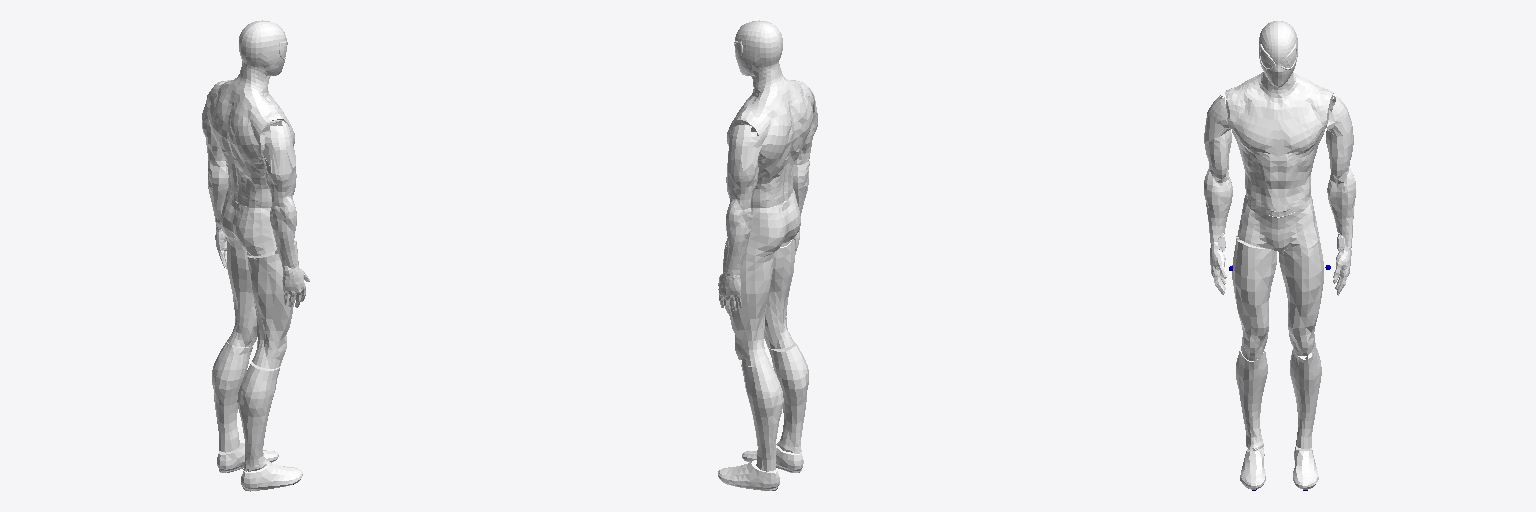
--- Facts derived from the render (not from the file) ---
The picture shows the robot from 3 angles, left to right: view 1: azimuth 30°, elevation 25°; view 2: azimuth 150°, elevation 25°; view 3: azimuth 270°, elevation 25°; orthographic projection.
Robot: spiderman — 41 links, 40 joints (34 revolute, 6 fixed); root link base_link; default pose: every joint at zero.
Visible links, largest first — view 1: Thorax, RThigh, RShank, LShank, RHumerus, Pelvis, LThigh, Skull, RForearm, RFoot, LForearm, RHand (+2 smaller); view 2: Thorax, LThigh, LShank, RShank, LHumerus, Pelvis, RThigh, Skull, LForearm, LFoot, LHand, RFoot; view 3: Thorax, RThigh, LThigh, Pelvis, LShank, RShank, Skull, LHumerus, RHumerus, LForearm, RForearm.
Boxes of the visible links, <box> form: Thorax: <box>208,63,294,207</box>; RThigh: <box>248,241,298,368</box>; RShank: <box>237,363,279,471</box>; LShank: <box>212,342,253,452</box>; RHumerus: <box>261,121,296,208</box>; Pelvis: <box>220,191,294,255</box>; LThigh: <box>227,238,256,347</box>; Skull: <box>239,20,287,76</box>; RForearm: <box>270,205,299,275</box>; RFoot: <box>241,461,291,491</box>; LForearm: <box>208,161,228,234</box>; RHand: <box>282,268,309,307</box>; Thorax: <box>727,64,813,207</box>; LThigh: <box>723,245,774,365</box>; LShank: <box>741,361,783,471</box>; RShank: <box>768,342,808,453</box>; LHumerus: <box>726,125,761,209</box>; Pelvis: <box>725,189,800,256</box>; RThigh: <box>764,237,794,348</box>; Skull: <box>734,20,782,75</box>; LForearm: <box>723,208,752,282</box>; LFoot: <box>729,460,779,490</box>; LHand: <box>718,273,741,313</box>; RFoot: <box>753,445,803,472</box>; Thorax: <box>1225,72,1333,216</box>; RThigh: <box>1232,235,1276,360</box>; LThigh: <box>1279,237,1323,358</box>; Pelvis: <box>1238,194,1318,251</box>; LShank: <box>1290,348,1321,448</box>; RShank: <box>1236,347,1267,450</box>; Skull: <box>1259,21,1297,87</box>; LHumerus: <box>1326,96,1353,182</box>; RHumerus: <box>1204,95,1231,182</box>; LForearm: <box>1327,175,1355,255</box>; RForearm: <box>1204,176,1232,255</box>.
Bounding box of the posed robot: 0.2766 × 0.5542 × 1.84 m (x, y, z).
17 mesh visuals loaded from 17 distinct referenced files (17 binary STL).

URDF robot description (spiderman):
<?xml version="1.0"?>
<!-- meshes from http://tf3dm.com/ -->
<robot name="spiderman">
  <material name="Blue"> <!-- for spheres -->
    <color rgba="0 0 1 0.5"/>
  </material>
  <material name="White"> <!-- for bones -->
    <color rgba="1 1 1 1"/>
  </material>
  <material name="Green"> <!-- for bones -->
    <color rgba="0 1 0.1 0.2"/>
  </material>

  <link name="base_link"/>
  <joint name="base_link_J" type="fixed">
      <parent link="base_link"/>
      <child link="Pelvis"/>
      <origin rpy="0 0 0" xyz="0 0 0"/>
   </joint>

  <link name="virtualPelvis"/> <!-- for Blender Armature export -->
  <joint name="virtualPelvis" type="fixed">
      <parent link="base_link"/>
      <child link="virtualPelvis"/>
      <origin rpy="0 0 0" xyz="0 0 0"/>
  </joint>

   <link name="Pelvis">
      <inertial>
         <origin rpy="0 0 0" xyz="0 0 0"/>
         <mass value="8.4552"/>
         <inertia ixx="0" ixy="0" ixz="0" iyy="0" iyz="0" izz="0"/>
      </inertial>
      <visual>
         <origin xyz="0 0 0" rpy="0 0 0"/>
         <geometry>
            <mesh filename="package://hpp-rbprm-corba/meshes/spiderman/spiderman-pelvis.stl"/>
         </geometry>
         <material name="White"/>
      </visual>
      <collision>
         <origin xyz="0 0 0" rpy="0 0 0"/>
         <geometry>
            <mesh filename="package://hpp-rbprm-corba/meshes/spiderman/spiderman-pelvis.stl"/>
         </geometry>
      </collision>
   </link>

  <!--<joint name="pelvis_rfoot_rom_joint" type="fixed">
      <parent link="Pelvis"/>
      <child link="pelvis_rfoot_rom"/>
      <origin rpy="0 0 0" xyz="0 0 0"/>
   </joint>
  <link name="pelvis_rfoot_rom">
      <visual>
         <origin xyz="0 0 0" rpy="0 0 0"/>
         <geometry>
            <mesh filename="package://hpp-rbprm-corba/meshes/spiderman/rfoot_rom.stl"/>
         </geometry>
         <material name="Green"/>
      </visual>
   </link>-->
   
  <!--<joint name="pelvis_lfoot_rom_joint" type="fixed">
      <parent link="Pelvis"/>
      <child link="pelvis_lfoot_rom"/>
      <origin rpy="0 0 0" xyz="0 0 0"/>
   </joint>
  <link name="pelvis_lfoot_rom">
      <visual>
         <origin xyz="0 0 0" rpy="0 0 0"/>
         <geometry>
            <mesh filename="package://hpp-rbprm-corba/meshes/spiderman/lfoot_rom.stl"/>
         </geometry>
         <material name="Green"/>
      </visual>
   </link>-->

   <link name="Thorax_rx"/>
   <link name="Thorax_ry"/>
   <link name="Thorax">
      <inertial>
         <origin rpy="0 0 0" xyz="0 0 0"/>
         <mass value="19.8372"/>
         <inertia ixx="-0.16485" ixy="0.25777" ixz="0.0015499" iyy="0.20309" iyz="-0.0061998" izz="-0.18263"/>
      </inertial>
      <visual>
         <origin xyz="0 0 0" rpy="0 0 0"/>
         <geometry>
            <mesh filename="package://hpp-rbprm-corba/meshes/spiderman/spiderman-thorax.stl"/>
         </geometry>
         <material name="White"/>
      </visual>
      <collision>
         <origin xyz="0 0 0" rpy="0 0 0"/>
         <geometry>
            <mesh filename="package://hpp-rbprm-corba/meshes/spiderman/spiderman-thorax.stl"/>
         </geometry>
      </collision>
   </link>

  <!--<joint name="thorax_rhand_rom_joint" type="fixed">
      <parent link="Thorax"/>
      <child link="thorax_rhand_rom"/>
      <origin rpy="0 0 0" xyz="0 0 0"/>
   </joint>
  <link name="thorax_rhand_rom">
      <visual>
         <origin xyz="0 0 0" rpy="0 0 0"/>
         <geometry>
            <mesh filename="package://hpp-rbprm-corba/meshes/spiderman/rhand_rom.stl"/>
         </geometry>
         <material name="Green"/>
      </visual>
   </link>

  <joint name="thorax_lhand_rom_joint" type="fixed">
      <parent link="Thorax"/>
      <child link="thorax_lhand_rom"/>
      <origin rpy="0 0 0" xyz="0 0 0"/>
   </joint>
  <link name="thorax_lhand_rom">
      <visual>
         <origin xyz="0 0 0" rpy="0 0 0"/>
         <geometry>
            <mesh filename="package://hpp-rbprm-corba/meshes/spiderman/lhand_rom.stl"/>
         </geometry>
         <material name="Green"/>
      </visual>
   </link>-->

   <link name="Skull_rx"/>
   <link name="Skull_ry"/>
   <link name="Skull">
      <inertial>
         <origin rpy="0 0 0" xyz="0 0 0"/>
         <mass value="4.2276"/>
         <inertia ixx="0.0071027" ixy="-0.00059867" ixz="-2.9564e-05" iyy="0.0046194" iyz="6.6519e-05" izz="0.0080488"/>
      </inertial>
      <visual>
         <origin xyz="0 0 0" rpy="0 0 0"/>
         <geometry>
            <mesh filename="package://hpp-rbprm-corba/meshes/spiderman/spiderman-skull.stl"/>
         </geometry>
         <material name="White"/>
      </visual>
      <collision>
         <origin xyz="0 0 0" rpy="0 0 0"/>
         <geometry>
            <mesh filename="package://hpp-rbprm-corba/meshes/spiderman/spiderman-skull.stl"/>
         </geometry>
      </collision>
   </link>
   <link name="RThigh_rx"/>
   <link name="RThigh_ry"/>
   <link name="RThigh">
      <inertial>
         <origin rpy="0 0 0" xyz="0 0 0"/>
         <mass value="7.3797"/>
         <inertia ixx="0.11501" ixy="0.0067008" ixz="-0.000547" iyy="0.030769" iyz="-0.0067008" izz="0.12308"/>
      </inertial>
      <visual>
         <origin xyz="0 0 0" rpy="0 0 0"/>
         <geometry>
            <mesh filename="package://hpp-rbprm-corba/meshes/spiderman/spiderman-RThigh.stl"/>
         </geometry>
         <material name="White"/>
      </visual>
      <collision>
         <origin xyz="0 0 0" rpy="0 0 0"/>
         <geometry>
            <mesh filename="package://hpp-rbprm-corba/meshes/spiderman/spiderman-RThigh.stl"/>
         </geometry>
      </collision>
   </link>
   <link name="RShank">
      <inertial>
         <origin rpy="0 0 0" xyz="0 0 0"/>
         <mass value="2.8801"/>
         <inertia ixx="0.042617" ixy="-0.00086974" ixz="-0.00021743" iyy="0.0054359" iyz="0.001359" izz="0.042617"/>
      </inertial>
      <visual>
         <origin xyz="0 0 0" rpy="0 0 0"/>
         <geometry>
            <mesh filename="package://hpp-rbprm-corba/meshes/spiderman/spiderman-RShank.stl"/>
         </geometry>
         <material name="White"/>
      </visual>
      <collision>
         <origin xyz="0 0 0" rpy="0 0 0"/>
         <geometry>
            <mesh filename="package://hpp-rbprm-corba/meshes/spiderman/spiderman-RShank.stl"/>
         </geometry>
      </collision>
   </link>
   <link name="RFoot_ry"/>
   <link name="RFoot">
      <inertial>
         <origin rpy="0 0 0" xyz="0 0 0"/>
         <mass value="0.52"/>
         <inertia ixx="0.0035454" ixy="0.00043767" ixz="0" iyy="0.00074844" iyz="-0.00016575" izz="0.0033563"/>
      </inertial>
      <visual>
         <origin xyz="0 0 0" rpy="0 0 0"/>
         <geometry>
            <mesh filename="package://hpp-rbprm-corba/meshes/spiderman/spiderman-RFoot.stl"/>
         </geometry>
         <material name="White"/>
      </visual>
      <collision>
         <origin xyz="0 0 0" rpy="0 0 0"/>
         <geometry>
            <mesh filename="package://hpp-rbprm-corba/meshes/spiderman/spiderman-RFoot.stl"/>
         </geometry>
      </collision>
   </link>
   <link name="RFootToe">
      <inertial>
         <origin rpy="0 0 0" xyz="0 0 0"/>
         <mass value="0.2"/>
         <inertia ixx="0.0035454" ixy="0.00043767" ixz="0" iyy="0.00074844" iyz="-0.00016575" izz="0.0033563"/>
      </inertial>
      <visual>
         <origin xyz="0 0 0" rpy="0 0 0"/>
         <geometry>
            <mesh filename="package://hpp-rbprm-corba/meshes/spiderman/spiderman-RFootToe.stl"/>
         </geometry>
         <material name="White"/>
      </visual>
      <collision>
         <origin xyz="0 0 0" rpy="0 0 0"/>
         <geometry>
            <mesh filename="package://hpp-rbprm-corba/meshes/spiderman/spiderman-RFootToe.stl"/>
         </geometry>
      </collision>
   </link>
  <link name="SpidermanRFootSphere">
      <visual>
         <origin xyz="0 0 0" rpy="0 0 0"/>
         <geometry>
            <sphere radius="0.01"/>
         </geometry>
         <material name="Blue"/>
      </visual>
   </link>
   <link name="LThigh_rx"/>
   <link name="LThigh_ry"/>
   <link name="LThigh">
      <inertial>
         <origin rpy="0 0 0" xyz="0 0 0"/>
         <mass value="7.3797"/>
         <inertia ixx="0.11501" ixy="0.0067008" ixz="-0.000547" iyy="0.030769" iyz="-0.0067008" izz="0.12308"/>
      </inertial>
      <visual>
         <origin xyz="0 0 0" rpy="0 0 0"/>
         <geometry>
            <mesh filename="package://hpp-rbprm-corba/meshes/spiderman/spiderman-LThigh.stl"/>
         </geometry>
         <material name="White"/>
      </visual>
      <collision>
         <origin xyz="0 0 0" rpy="0 0 0"/>
         <geometry>
            <mesh filename="package://hpp-rbprm-corba/meshes/spiderman/spiderman-LThigh.stl"/>
         </geometry>
      </collision>
   </link>
   <link name="LShank">
      <inertial>
         <origin rpy="0 0 0" xyz="0 0 0"/>
         <mass value="2.8801"/>
         <inertia ixx="0.042617" ixy="-0.00086974" ixz="-0.00021743" iyy="0.0054359" iyz="0.001359" izz="0.042617"/>
      </inertial>
      <visual>
         <origin xyz="0 0 0" rpy="0 0 0"/>
         <geometry>
            <mesh filename="package://hpp-rbprm-corba/meshes/spiderman/spiderman-LShank.stl"/>
         </geometry>
         <material name="White"/>
      </visual>
      <collision>
         <origin xyz="0 0 0" rpy="0 0 0"/>
         <geometry>
            <mesh filename="package://hpp-rbprm-corba/meshes/spiderman/spiderman-LShank.stl"/>
         </geometry>
      </collision>
   </link>
   <link name="LFoot_ry"/>
   <link name="LFoot">
      <inertial>
         <origin rpy="0 0 0" xyz="0 0 0"/>
         <mass value="0.52"/>
         <inertia ixx="0.0035454" ixy="0.00043767" ixz="0" iyy="0.00074844" iyz="-0.00016575" izz="0.0033563"/>
      </inertial>
      <visual>
         <origin xyz="0 0 0" rpy="0 0 0"/>
         <geometry>
            <mesh filename="package://hpp-rbprm-corba/meshes/spiderman/spiderman-LFoot.stl"/>
         </geometry>
         <material name="White"/>
      </visual>
      <collision>
         <origin xyz="0 0 0" rpy="0 0 0"/>
         <geometry>
            <mesh filename="package://hpp-rbprm-corba/meshes/spiderman/spiderman-LFoot.stl"/>
         </geometry>
      </collision>
   </link>
   <link name="LFootToe">
      <inertial>
         <origin rpy="0 0 0" xyz="0 0 0"/>
         <mass value="0.2"/>
         <inertia ixx="0.0035454" ixy="0.00043767" ixz="0" iyy="0.00074844" iyz="-0.00016575" izz="0.0033563"/>
      </inertial>
      <visual>
         <origin xyz="0 0 0" rpy="0 0 0"/>
         <geometry>
            <mesh filename="package://hpp-rbprm-corba/meshes/spiderman/spiderman-LFootToe.stl"/>
         </geometry>
         <material name="White"/>
      </visual>
      <collision>
         <origin xyz="0 0 0" rpy="0 0 0"/>
         <geometry>
            <mesh filename="package://hpp-rbprm-corba/meshes/spiderman/spiderman-LFootToe.stl"/>
         </geometry>
      </collision>
   </link>
  <link name="SpidermanLFootSphere">
      <visual>
         <origin xyz="0 0 0" rpy="0 0 0"/>
         <geometry>
            <sphere radius="0.01"/>
         </geometry>
         <material name="Blue"/>
      </visual>
   </link>
   <link name="RHumerus_rx"/>
   <link name="RHumerus_ry"/>
   <link name="RHumerus">
      <inertial>
         <origin rpy="0 0 0" xyz="0 0 0"/>
         <mass value="1.4399"/>
         <inertia ixx="-0.022156" ixy="0.00051827" ixz="0.00035991" iyy="0.0028217" iyz="5.7586e-05" izz="-0.021249"/>
      </inertial>
      <visual>
         <origin xyz="0 0 0" rpy="0 0 0"/>
         <geometry>
            <mesh filename="package://hpp-rbprm-corba/meshes/spiderman/spiderman-RHumerus.stl"/>
         </geometry>
         <material name="White"/>
      </visual>
      <collision>
         <origin xyz="0 0 0" rpy="0 0 0"/>
         <geometry>
            <mesh filename="package://hpp-rbprm-corba/meshes/spiderman/spiderman-RHumerus.stl"/>
         </geometry>
      </collision>
   </link>
   <link name="RForearm_ry"/>
   <link name="RForearm">
      <inertial>
         <origin rpy="0 0 0" xyz="0 0 0"/>
         <mass value="1.02"/>
         <inertia ixx="-0.0082187" ixy="5.6551e-05" ixz="2.5134e-05" iyy="0.0007603" iyz="-0.00040214" izz="-0.0085643"/>
      </inertial>
      <visual>
         <origin xyz="0 0 0" rpy="0 0 0"/>
         <geometry>
            <mesh filename="package://hpp-rbprm-corba/meshes/spiderman/spiderman-RForearm.stl"/>
         </geometry>
         <material name="White"/>
      </visual>
      <collision>
         <origin xyz="0 0 0" rpy="0 0 0"/>
         <geometry>
            <mesh filename="package://hpp-rbprm-corba/meshes/spiderman/spiderman-RForearm.stl"/>
         </geometry>
      </collision>
   </link>
   <link name="RHand_rx"/>
   <link name="RHand">
      <inertial>
         <origin rpy="0 0 0" xyz="0 0 0"/>
         <mass value="0.36011"/>
         <inertia ixx="0.0036215" ixy="0.00058753" ixz="0.00027313" iyy="0.0017529" iyz="-0.00048556" izz="0.0029113"/>
      </inertial>
      <visual>
         <origin xyz="0 0 0" rpy="0 0 0"/>
         <geometry>
            <mesh filename="package://hpp-rbprm-corba/meshes/spiderman/spiderman-RHand.stl"/>
         </geometry>
         <material name="White"/>
      </visual>
      <collision>
         <origin xyz="0 0 0" rpy="0 0 0"/>
         <geometry>
            <mesh filename="package://hpp-rbprm-corba/meshes/spiderman/spiderman-RHand.stl"/>
         </geometry>
      </collision>
   </link>
  <link name="SpidermanRHandSphere">
      <visual>
         <origin xyz="0 0 0" rpy="0 0 0"/>
         <geometry>
            <sphere radius = "0.01"/>
         </geometry>
         <material name="Blue"/>
      </visual>
   </link>

   <link name="LHumerus_rx"/>
   <link name="LHumerus_ry"/>
   <link name="LHumerus">
      <inertial>
         <origin rpy="0 0 0" xyz="0 0 0"/>
         <mass value="1.4399"/>
         <inertia ixx="-0.022156" ixy="0.00051827" ixz="0.00035991" iyy="0.0028217" iyz="5.7586e-05" izz="-0.021249"/>
      </inertial>
      <visual>
         <origin xyz="0 0 0" rpy="0 0 0"/>
         <geometry>
            <mesh filename="package://hpp-rbprm-corba/meshes/spiderman/spiderman-LHumerus.stl"/>
         </geometry>
         <material name="White"/>
      </visual>
      <collision>
         <origin xyz="0 0 0" rpy="0 0 0"/>
         <geometry>
            <mesh filename="package://hpp-rbprm-corba/meshes/spiderman/spiderman-LHumerus.stl"/>
         </geometry>
      </collision>
   </link>
   <link name="LForearm_ry"/>
   <link name="LForearm">
      <inertial>
         <origin rpy="0 0 0" xyz="0 -0.11352 0"/>
         <mass value="1.02"/>
         <inertia ixx="-0.0082187" ixy="5.6551e-05" ixz="2.5134e-05" iyy="0.0007603" iyz="-0.00040214" izz="-0.0085643"/>
      </inertial>
      <visual>
         <origin xyz="0 0 0" rpy="0 0 0"/>
         <geometry>
            <mesh filename="package://hpp-rbprm-corba/meshes/spiderman/spiderman-LForearm.stl"/>
         </geometry>
         <material name="White"/>
      </visual>
      <collision>
         <origin xyz="0 0 0" rpy="0 0 0"/>
         <geometry>
            <mesh filename="package://hpp-rbprm-corba/meshes/spiderman/spiderman-LForearm.stl"/>
         </geometry>
      </collision>
   </link>
   <link name="LHand_rx"/>
   <link name="LHand">
      <inertial>
         <origin rpy="0 0 0" xyz="0 0 0"/>
         <mass value="0.36011"/>
         <inertia ixx="0.0036215" ixy="0.00058753" ixz="0.00027313" iyy="0.0017529" iyz="-0.00048556" izz="0.0029113"/>
      </inertial>
      <visual>
         <origin xyz="0 0 0" rpy="0 0 0"/>
         <geometry>
            <mesh filename="package://hpp-rbprm-corba/meshes/spiderman/spiderman-LHand.stl"/>
         </geometry>
         <material name="White"/>
      </visual>
      <collision>
         <origin xyz="0 0 0" rpy="0 0 0"/>
         <geometry>
            <mesh filename="package://hpp-rbprm-corba/meshes/spiderman/spiderman-LHand.stl"/>
         </geometry>
      </collision>
   </link>
  <link name="SpidermanLHandSphere">
      <visual>
         <origin xyz="0 0 0" rpy="0 0 0"/>
         <geometry>
            <sphere radius="0.01"/>
         </geometry>
         <material name="Blue"/>
      </visual>
   </link>

  <joint name="A_Thorax_rx" type="revolute"> <!-- A_ added for order while parsing with ROS -->
      <parent link="Pelvis"/>
      <child link="Thorax_rx"/>
      <origin rpy="0 0 0" xyz="0.0373 0.0006 0.0788"/>
      <axis xyz="1 0 0"/>
      <limit effort="0" lower="-1" upper="1" velocity="1.0"/>
   </joint>
   <joint name="Thorax_ry" type="revolute">
      <parent link="Thorax_rx"/>
      <child link="Thorax_ry"/>
      <origin rpy="0 0 0" xyz="0 0 0"/>
      <axis xyz="0 1 0"/>
      <limit effort="0" lower="-0.8" upper="0.8" velocity="1.0"/>
   </joint>
   <joint name="Thorax_rz" type="revolute">
      <parent link="Thorax_ry"/>
      <child link="Thorax"/>
      <origin rpy="0 0 0" xyz="0 0 0"/>
      <axis xyz="0 0 1"/>
      <limit effort="0" lower="-1.5" upper="1.5" velocity="1.0"/>
   </joint>
   <joint name="A_Skull_rx" type="revolute"> <!-- A_ added for order while parsing with ROS -->
      <parent link="Thorax"/>
      <child link="Skull_rx"/>
      <origin rpy="0 0 0" xyz="0.0711 -0.0005 0.6039"/>
      <axis xyz="1 0 0"/>
      <limit effort="0" lower="-0.3" upper="0.3" velocity="1.0"/>
   </joint>
   <joint name="Skull_ry" type="revolute">
      <parent link="Skull_rx"/>
      <child link="Skull_ry"/>
      <origin rpy="0 0 0" xyz="0 0 0"/>
      <axis xyz="0 1 0"/>
      <limit effort="0" lower="-1.1" upper="0.6" velocity="1.0"/>
   </joint>
   <joint name="Skull_rz" type="revolute">
      <parent link="Skull_ry"/>
      <child link="Skull"/>
      <origin rpy="0 0 0" xyz="0 0 0"/>
      <axis xyz="0 0 1"/>
      <limit effort="0" lower="-1.4" upper="1." velocity="1.0"/>
   </joint>
   <joint name="RThigh_rx" type="revolute">
      <parent link="Pelvis"/>
      <child link="RThigh_rx"/>
      <origin rpy="0 0 0" xyz="0.0367 -0.0943 -0.0844"/>
      <axis xyz="1 0 0"/>
      <limit effort="0" lower="-1.6" upper="1.2" velocity="1.0"/>
   </joint>
   <joint name="RThigh_ry" type="revolute">
      <parent link="RThigh_rx"/>
      <child link="RThigh_ry"/>
      <origin rpy="0 0 0" xyz="0 0 0"/>
      <axis xyz="0 1 0"/>
      <limit effort="0" lower="-2.5" upper="0.7" velocity="1.0"/>
   </joint>
   <joint name="RThigh_rz" type="revolute">
      <parent link="RThigh_ry"/>
      <child link="RThigh"/>
      <origin rpy="0 0 0" xyz="0 0 0"/>
      <axis xyz="0 0 1"/>
      <limit effort="0" lower="-1.6" upper="1.2" velocity="1.0"/>
   </joint>
   <joint name="RShank_ry" type="revolute">
      <parent link="RThigh"/>
      <child link="RShank"/>
      <origin rpy="0 0 0" xyz="-0.0385 0.0012 -0.4586"/>
      <axis xyz="0 1 0"/>
      <limit effort="0" lower="-0.05" upper="2.4" velocity="1.0"/>
   </joint>
   <joint name="RFoot_ry" type="revolute">
      <parent link="RShank"/>
      <child link="RFoot_ry"/>
      <origin rpy="0 0 0" xyz="-0.0310 0.0070 -0.4016"/>
      <axis xyz="0 1 0"/>
      <limit effort="0" lower="-1.1" upper="1.1" velocity="1.0"/>
   </joint>
   <joint name="RFoot_rz" type="revolute">
      <parent link="RFoot_ry"/>
      <child link="RFoot"/>
      <origin rpy="0 0 0" xyz="0 0 0"/>
      <axis xyz="0 0 1"/>
      <limit effort="0" lower="-0.6" upper="0.6" velocity="1.0"/>
   </joint>
   <joint name="RFootToe_ry" type="revolute">
      <parent link="RFoot"/>
      <child link="RFootToe"/>
      <origin rpy="0 0 0" xyz="0.1259 -0.0047 -0.0639"/>
      <axis xyz="0 1 0"/>
      <limit effort="0" lower="-1" upper="0.2" velocity="1.0"/>
   </joint>
  <joint name="SpidermanRFootSphere" type="fixed">
      <parent link="RFootToe"/>
      <child link="SpidermanRFootSphere"/>
      <origin rpy="0 0 0" xyz="0.0229 0.0022 -0.0306"/>
   </joint>
   <joint name="LThigh_rx" type="revolute">
      <parent link="Pelvis"/>
      <child link="LThigh_rx"/>
      <origin rpy="0 0 0" xyz="0.0355 0.0908 -0.0850"/>
      <axis xyz="1 0 0"/>
      <limit effort="0" lower="-1.2" upper="1.5" velocity="1.0"/>
   </joint>
   <joint name="LThigh_ry" type="revolute">
      <parent link="LThigh_rx"/>
      <child link="LThigh_ry"/>
      <origin rpy="0 0 0" xyz="0 0 0"/>
      <axis xyz="0 1 0"/>
      <limit effort="0" lower="-2.5" upper="0.7" velocity="1.0"/>
   </joint>
   <joint name="LThigh_rz" type="revolute">
      <parent link="LThigh_ry"/>
      <child link="LThigh"/>
      <origin rpy="0 0 0" xyz="0 0 0"/>
      <axis xyz="0 0 1"/>
      <limit effort="0" lower="-1.2" upper="1.6" velocity="1.0"/>
   </joint>
   <joint name="LShank_ry" type="revolute">
      <parent link="LThigh"/>
      <child link="LShank"/>
      <origin rpy="0 0 0" xyz="-0.0308 0 -0.4471"/>
      <axis xyz="0 1 0"/>
      <limit effort="0" lower="-0.05" upper="2.4" velocity="1.0"/>
   </joint>
   <joint name="LFoot_ry" type="revolute">
      <parent link="LShank"/>
      <child link="LFoot_ry"/>
      <origin rpy="0 0 0" xyz="-0.0393 0.0026 -0.4117"/>
      <axis xyz="0 1 0"/>
      <limit effort="0" lower="-1.1" upper="1.1" velocity="1.0"/>
   </joint>
   <joint name="LFoot_rz" type="revolute">
      <parent link="LFoot_ry"/>
      <child link="LFoot"/>
      <origin rpy="0 0 0" xyz="0 0 0"/>
      <axis xyz="0 0 1"/>
      <limit effort="0" lower="-0.6" upper="0.6" velocity="1.0"/>
   </joint>
   <joint name="LFootToe_ry" type="revolute">
      <parent link="LFoot"/>
      <child link="LFootToe"/>
      <origin rpy="0 0 0" xyz="0.1277 0.0052 -0.0646"/>
      <axis xyz="0 1 0"/>
      <limit effort="0" lower="-1" upper="0.2" velocity="1.0"/>
   </joint>
  <joint name="SpidermanLFootSphere" type="fixed">
      <parent link="LFootToe"/>
      <child link="SpidermanLFootSphere"/>
      <origin rpy="0 0 0" xyz="0.0229 -0.0001 -0.0306"/>
   </joint>
   <joint name="RHumerus_rx" type="revolute">
      <parent link="Thorax"/>
      <child link="RHumerus_rx"/>
      <origin rpy="0 0 0" xyz="-0.0467 -0.1906 0.3285"/>
      <axis xyz="1 0 0"/>
      <limit effort="0" lower="-2.3" upper="0.3" velocity="1.0"/>
   </joint>
   <joint name="RHumerus_ry" type="revolute">
      <parent link="RHumerus_rx"/>
      <child link="RHumerus_ry"/>
      <origin rpy="0 0 0" xyz="0 0 0"/>
      <axis xyz="0 1 0"/>
      <limit effort="0" lower="-2.8" upper="1.6" velocity="1.0"/>
   </joint>
   <joint name="RHumerus_rz" type="revolute">
      <parent link="RHumerus_ry"/>
      <child link="RHumerus"/>
      <origin rpy="0 0 0" xyz="0 0 0"/>
      <axis xyz="0 0 1"/>
      <limit effort="0" lower="-1.5" upper="1.5" velocity="1.0"/>
   </joint>
   <joint name="RForearm_ry" type="revolute">
      <parent link="RHumerus"/>
      <child link="RForearm_ry"/>
      <origin rpy="0 0 0" xyz="0.0088 -0.0307 -0.2504"/>
      <axis xyz="0 1 0"/>
      <limit effort="0" lower="-2.3" upper="0.01" velocity="1.0"/>
   </joint>
   <joint name="RForearm_rz" type="revolute">
      <parent link="RForearm_ry"/>
      <child link="RForearm"/>
      <origin rpy="0 0 0" xyz="0 0 0"/>
      <axis xyz="0 0 1"/>
      <limit effort="0" lower="-1" upper="1.4" velocity="1.0"/>
   </joint>
   <joint name="RHand_rx" type="revolute">
      <parent link="RForearm"/>
      <child link="RHand_rx"/>
      <origin rpy="0 0 0" xyz="0.038 -0.0018 -0.2731"/>
      <axis xyz="1 0 0"/>
      <limit effort="0" lower="-1.6" upper="1.4" velocity="1.0"/>
   </joint>
   <joint name="RHand_ry" type="revolute">
      <parent link="RHand_rx"/>
      <child link="RHand"/>
      <origin rpy="0 0 0" xyz="0 0 0"/>
      <axis xyz="0 1 0"/>
      <limit effort="0" lower="-0.6" upper="0.6" velocity="1.0"/>
   </joint>
  <joint name="SpidermanRHandSphere" type="fixed">
      <parent link="RHand"/>
      <child link="SpidermanRHandSphere"/>
      <origin rpy="0 0 0" xyz="0.0183 0.0517 -0.0678"/>
   </joint>
   <joint name="LHumerus_rx" type="revolute">
      <parent link="Thorax"/>
      <child link="LHumerus_rx"/>
      <origin rpy="0 0 0" xyz="-0.0467 0.1854 0.3285"/> <!-- inv L R -->
      <axis xyz="1 0 0"/>
      <limit effort="0" lower="-0.3" upper="2.3" velocity="1.0"/>
   </joint>
   <joint name="LHumerus_ry" type="revolute">
      <parent link="LHumerus_rx"/>
      <child link="LHumerus_ry"/>
      <origin rpy="0 0 0" xyz="0 0 0"/>
      <axis xyz="0 1 0"/>
      <limit effort="0" lower="-2.8" upper="1.6" velocity="1.0"/> <!-- same L R -->
   </joint>
   <joint name="LHumerus_rz" type="revolute">
      <parent link="LHumerus_ry"/>
      <child link="LHumerus"/>
      <origin rpy="0 0 0" xyz="0 0 0"/>
      <axis xyz="0 0 1"/>
      <limit effort="0" lower="-1.5" upper="1.5" velocity="1.0"/> <!-- inv L R -->
   </joint>
   <joint name="LForearm_ry" type="revolute">
      <parent link="LHumerus"/>
      <child link="LForearm_ry"/>
      <origin rpy="0 0 0" xyz="-0.0011 0.0454 -0.2573"/>
      <axis xyz="0 1 0"/>
      <limit effort="0" lower="-2.3" upper="0.01" velocity="1.0"/>
   </joint>
   <joint name="LForearm_rz" type="revolute">
      <parent link="LForearm_ry"/>
      <child link="LForearm"/>
      <origin rpy="0 0 0" xyz="0 0 0"/>
      <axis xyz="0 0 1"/>
      <limit effort="0" lower="-1.4" upper="1" velocity="1.0"/>
   </joint>
   <joint name="LHand_rx" type="revolute">
      <parent link="LForearm"/>
      <child link="LHand_rx"/>
      <origin rpy="0 0 0" xyz="0.0351 0.0088 -0.2751"/>
      <axis xyz="1 0 0"/>
      <limit effort="0" lower="-1.4" upper="1.6" velocity="1.0"/>
   </joint>
   <joint name="LHand_ry" type="revolute">
      <parent link="LHand_rx"/>
      <child link="LHand"/>
      <origin rpy="0 0 0" xyz="0 0 0"/>
      <axis xyz="0 1 0"/>
      <limit effort="0" lower="-0.6" upper="0.6" velocity="1.0"/>
   </joint>
  <joint name="SpidermanLHandSphere" type="fixed">
      <parent link="LHand"/>
      <child link="SpidermanLHandSphere"/>
      <origin rpy="0 0 0" xyz="0.021 -0.0589 -0.0591"/>
   </joint>
</robot>
